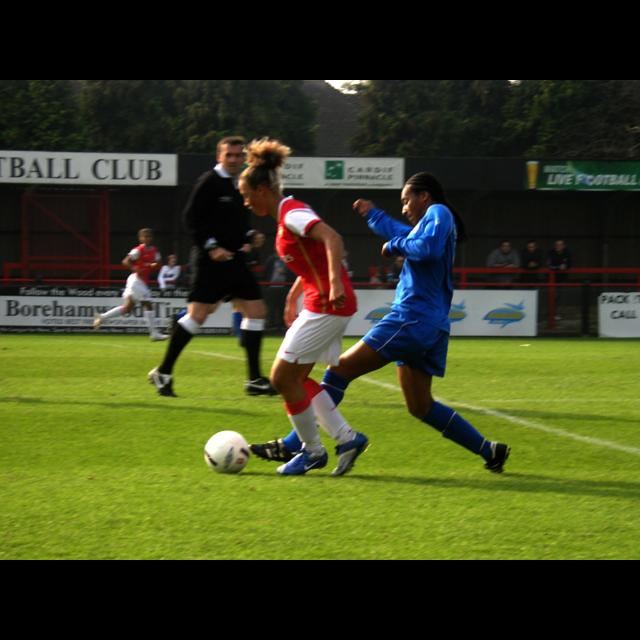Football: (200, 430, 250, 474)
